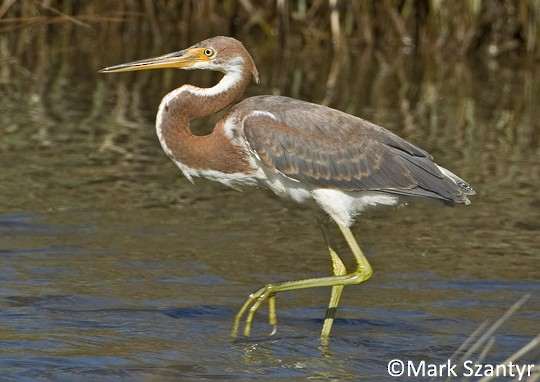heron: (93, 32, 481, 353)
